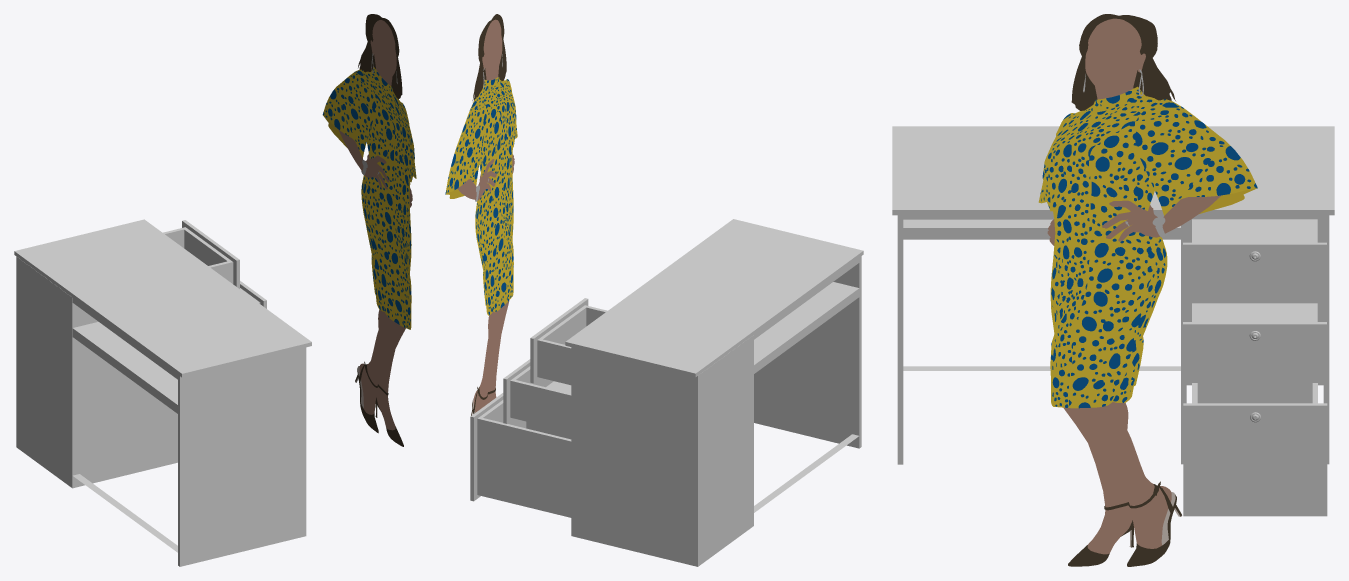
File: escritorio.glb
3 views of the same model, side by side, from view 1: azimuth 30°, elevation 25°; view 2: azimuth 150°, elevation 25°; view 3: azimuth 270°, elevation 25° (orthographic). The views are drawn at different scales.
Visible parts, largest first — view 1: 3DGeom-9 (×3), 3DGeom-16, 3DGeom-20, 3DGeom-4, 3DGeom-3, 3DGeom-5, 3DGeom-18, 3DGeom-2, 3DGeom-10 (×2), 3DGeom-25, 3DGeom-1, 3DGeom-23; view 2: 3DGeom-9 (×2), 3DGeom-16, 3DGeom-20, 3DGeom-4, 3DGeom-40, 3DGeom-3, 3DGeom-27 (×2), 3DGeom-5, 3DGeom-18, 3DGeom-23 (×2), 3DGeom-10 (×2), 3DGeom-2 (+3 smaller); view 3: 3DGeom-4, 3DGeom-16, 3DGeom-23 (×2), 3DGeom-43, 3DGeom-5, 3DGeom-3, 3DGeom-21 (×2), 3DGeom-2, 3DGeom-9 (×3), 3DGeom-39, 3DGeom-18, 3DGeom-10 (×2) (+3 smaller).
Boxes of the visible parts, x1,y1,x2,y2 form: 3DGeom-9 (×3): (16, 256, 306, 566); 3DGeom-16: (14, 219, 311, 377); 3DGeom-20: (18, 258, 70, 486); 3DGeom-4: (323, 67, 416, 329); 3DGeom-3: (322, 69, 415, 328); 3DGeom-5: (338, 20, 412, 430); 3DGeom-18: (72, 322, 177, 408); 3DGeom-2: (355, 14, 403, 446); 3DGeom-10 (×2): (72, 298, 177, 413); 3DGeom-25: (184, 228, 230, 265); 3DGeom-1: (73, 474, 177, 552); 3DGeom-23: (182, 220, 239, 288); 3DGeom-9 (×2): (571, 256, 861, 566); 3DGeom-16: (565, 219, 863, 377); 3DGeom-20: (700, 336, 751, 564); 3DGeom-4: (446, 77, 517, 315); 3DGeom-40: (477, 417, 571, 517); 3DGeom-3: (445, 77, 516, 314); 3DGeom-27 (×2): (510, 338, 571, 432); 3DGeom-5: (457, 19, 514, 412); 3DGeom-18: (754, 282, 859, 368); 3DGeom-23 (×2): (503, 298, 588, 423); 3DGeom-10 (×2): (754, 258, 859, 373); 3DGeom-2: (471, 14, 506, 415); 3DGeom-4: (1038, 86, 1255, 408); 3DGeom-16: (892, 126, 1334, 215); 3DGeom-23 (×2): (1183, 242, 1326, 382); 3DGeom-43: (1183, 403, 1327, 516); 3DGeom-5: (1047, 18, 1221, 554); 3DGeom-3: (1040, 89, 1257, 408); 3DGeom-21 (×2): (1197, 219, 1312, 321); 3DGeom-2: (1068, 14, 1181, 566); 3DGeom-9 (×3): (897, 215, 1329, 464); 3DGeom-39: (1197, 383, 1312, 403); 3DGeom-18: (903, 219, 1180, 232); 3DGeom-10 (×2): (903, 215, 1180, 239).
Bounding box in the file's own units: 1.19 × 1.65 × 1.19.
